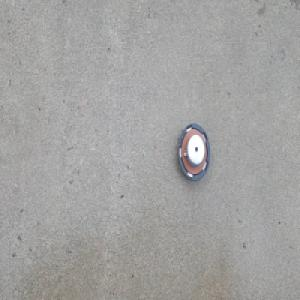FuelCap: (175, 121, 210, 182)
